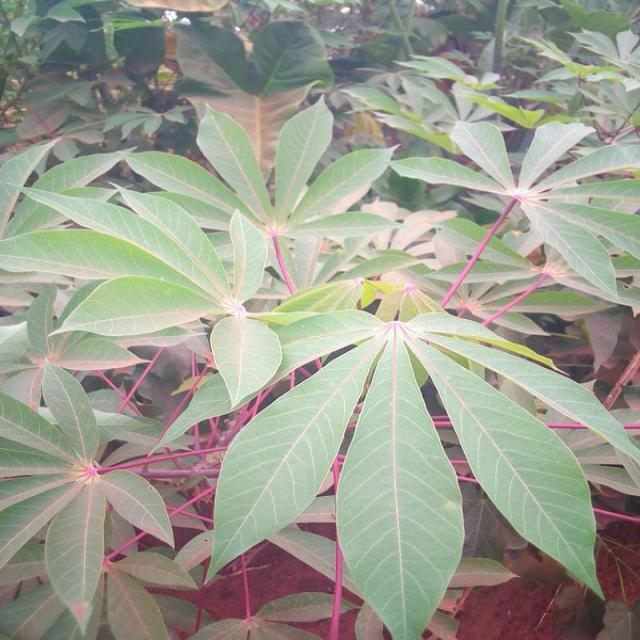cassava leaf: (336, 323, 466, 638)
